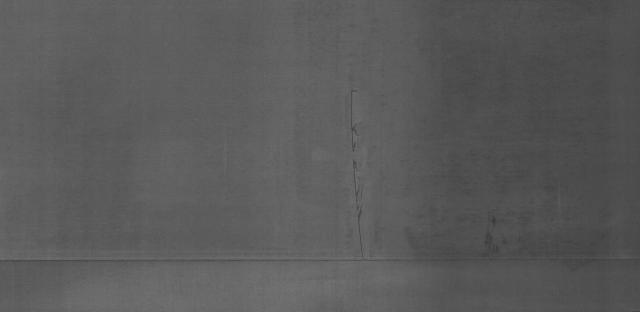oil_spot: (344, 80, 380, 258), (478, 215, 512, 249)
welding_line: (0, 253, 640, 271)
